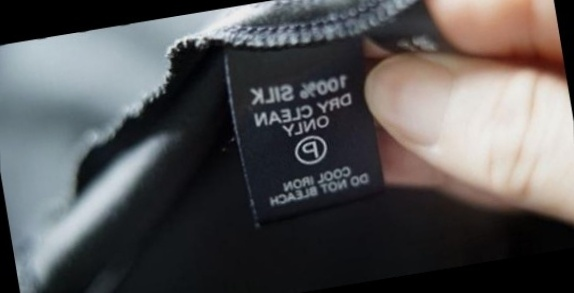dry_clean_any_solvent_except_trichloroethylene: (291, 132, 329, 167)
